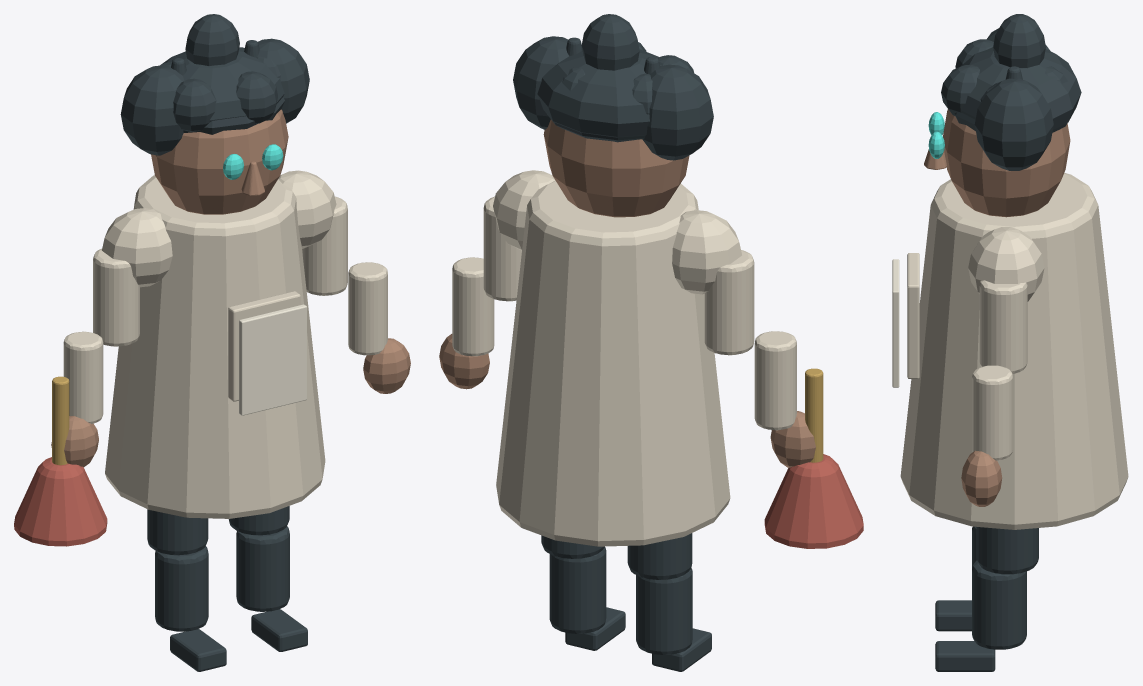
File: Nara_Voss.fbx
3 views of the same model, side by side, from view 1: azimuth 30°, elevation 25°; view 2: azimuth 150°, elevation 25°; view 3: azimuth 270°, elevation 25° (orthographic). The views are drawn at different scales.
Visible parts, largest first — view 1: Coat, HeadMesh, WhiteRoomPlate, MercyBell, Hair_2_Puff_R, RightShin, LeftShin, RightArm, RightShoulderPad, LeftForearm, RightForearm, LeftArm (+15 smaller); view 2: Coat, HeadMesh, MercyBell, Hair_1_Crown, Hair_2_Puff_R, RightArm, LeftShin, RightShin, RightShoulderPad, RightForearm, LeftForearm, Hair_2_Puff_L (+10 smaller); view 3: Coat, HeadMesh, Hair_2_Puff_L, LeftShin, LeftArm, Hair_1_Crown, LeftShoulderPad, LeftForearm, LeftThigh, Hair_1_Knot, LeftHandMesh, LeftFootMesh (+5 smaller).
Boxes of the visible parts, x1=… form: Coat: x1=105, y1=175, x2=325, y2=518; HeadMesh: x1=151, y1=109, x2=288, y2=214; WhiteRoomPlate: x1=239, y1=304, x2=306, y2=415; MercyBell: x1=14, y1=457, x2=107, y2=546; Hair_2_Puff_R: x1=120, y1=65, x2=183, y2=155; RightShin: x1=155, y1=546, x2=208, y2=631; LeftShin: x1=236, y1=526, x2=289, y2=611; RightArm: x1=93, y1=248, x2=139, y2=346; RightShoulderPad: x1=102, y1=208, x2=172, y2=287; LeftForearm: x1=348, y1=262, x2=387, y2=355; RightForearm: x1=63, y1=331, x2=103, y2=423; LeftArm: x1=302, y1=196, x2=347, y2=295; Coat: x1=496, y1=180, x2=730, y2=546; HeadMesh: x1=543, y1=119, x2=689, y2=217; MercyBell: x1=764, y1=454, x2=863, y2=548; Hair_1_Crown: x1=537, y1=49, x2=661, y2=137; Hair_2_Puff_R: x1=642, y1=64, x2=713, y2=160; RightArm: x1=704, y1=250, x2=754, y2=355; LeftShin: x1=549, y1=547, x2=606, y2=633; RightShin: x1=636, y1=568, x2=692, y2=654; RightShoulderPad: x1=672, y1=210, x2=741, y2=294; RightForearm: x1=754, y1=331, x2=796, y2=430; LeftForearm: x1=452, y1=257, x2=494, y2=356; Hair_2_Puff_L: x1=513, y1=36, x2=568, y2=129; Coat: x1=900, y1=173, x2=1128, y2=529; HeadMesh: x1=943, y1=109, x2=1070, y2=217; Hair_2_Puff_L: x1=974, y1=78, x2=1053, y2=170; LeftShin: x1=972, y1=560, x2=1026, y2=649; LeftArm: x1=979, y1=280, x2=1027, y2=373; Hair_1_Crown: x1=961, y1=47, x2=1081, y2=130; LeftShoulderPad: x1=968, y1=227, x2=1044, y2=301; LeftForearm: x1=972, y1=365, x2=1012, y2=460; LeftThigh: x1=976, y1=527, x2=1038, y2=574; Hair_1_Knot: x1=993, y1=14, x2=1045, y2=67; LeftHandMesh: x1=961, y1=450, x2=1002, y2=506; LeftFootMesh: x1=935, y1=641, x2=995, y2=671.
Bounding box in the file's own units: 1.66 × 2.5 × 0.8506.
